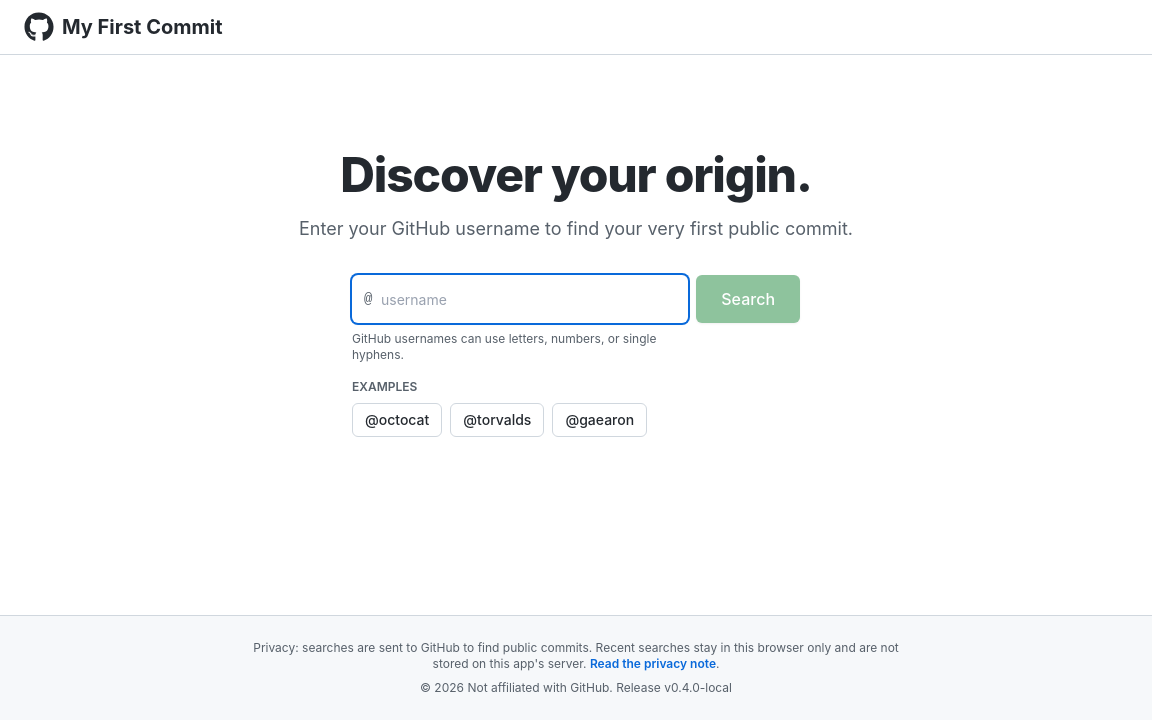
Test case: Home › submits a trimmed username and renders returned commits
Type "  octo  " into the search field named "github username". click: (520, 299)
box: [352,275,688,323]
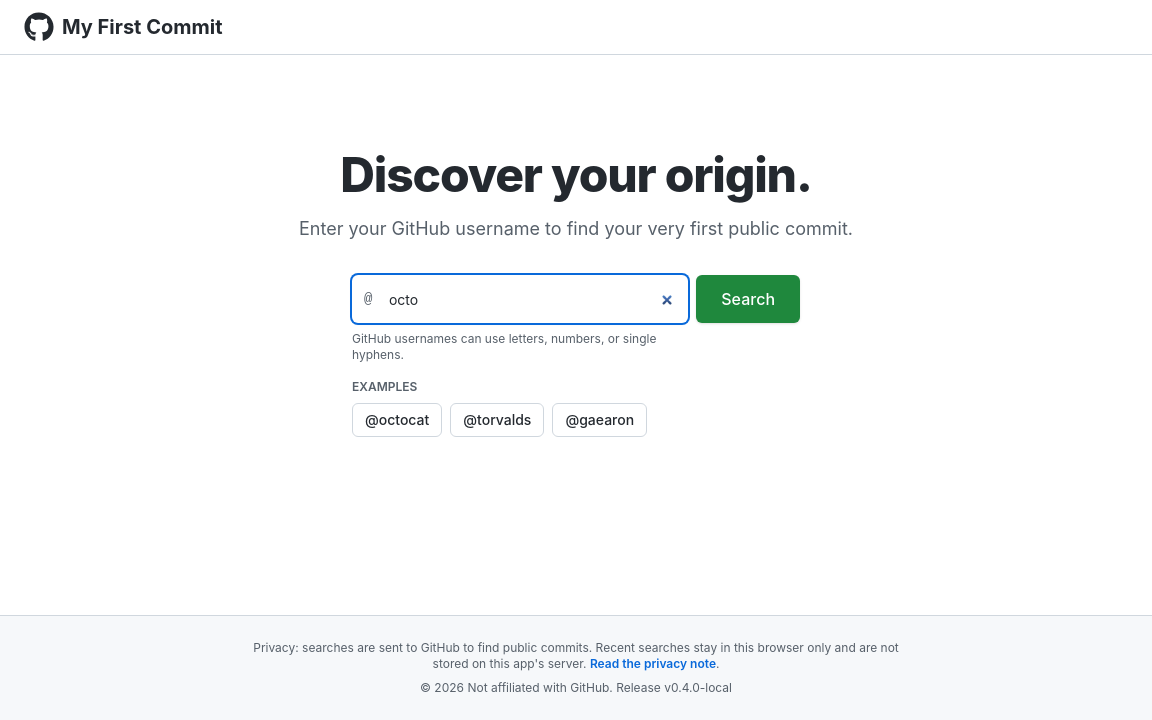
Click the button "Search". click: (748, 299)
box: [696,275,800,323]
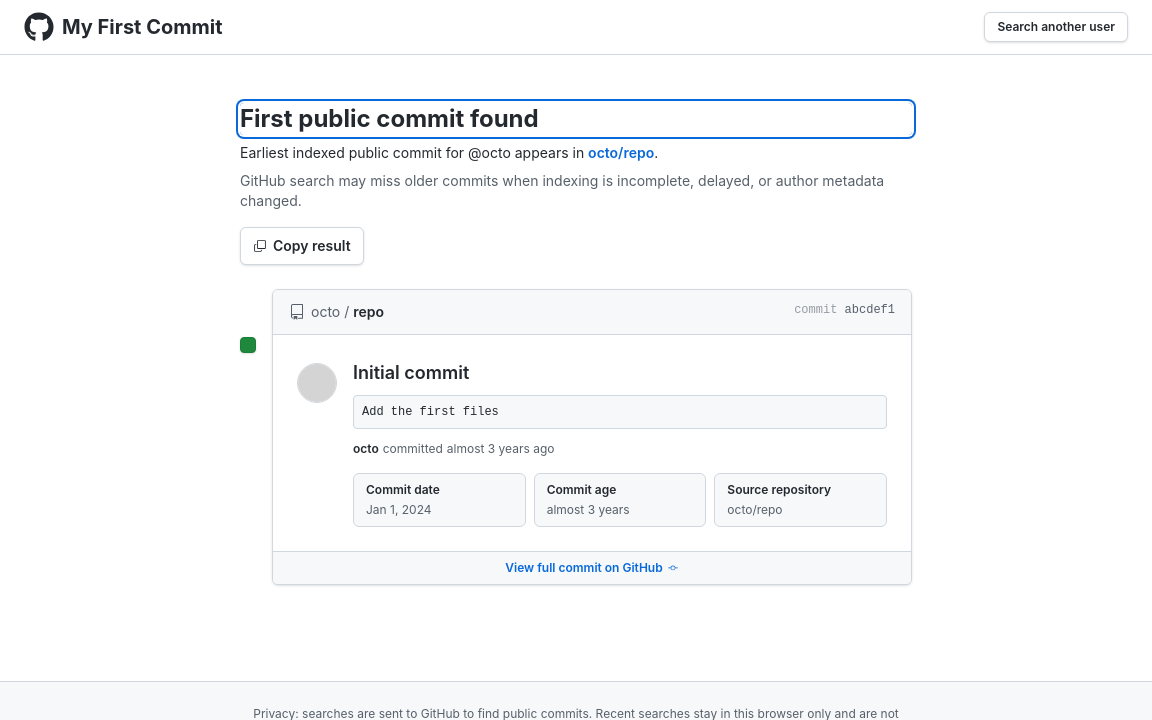
Expected: the heading "First public commit found" is shown, [240,103,912,135]
Expected: the text "GitHub search may miss older commits" is shown, [240,172,884,209]
Expected: the text "Earliest indexed public commit for @octo appears in" is shown, [240,144,658,161]
